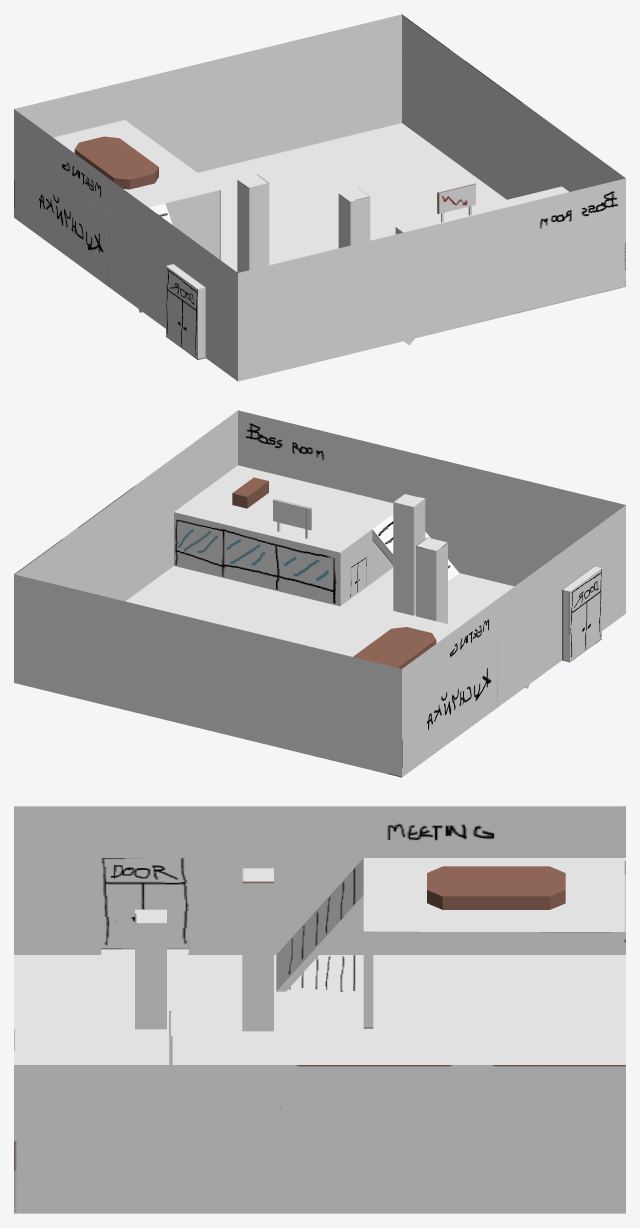
The model's file is arena blockout no cubicles.fbx.
The picture shows the model from 3 angles, top to bottom: view 1: azimuth 30°, elevation 25°; view 2: azimuth 150°, elevation 25°; view 3: azimuth 270°, elevation 25°; orthographic projection. The views are drawn at different scales.
Parts seen in each view (by area): view 1: Cube.001; view 2: Cube.001; view 3: Cube.001.
Part boxes in pixels (x1,y1,x2,y2): Cube.001: (14, 14, 625, 381); Cube.001: (14, 410, 625, 777); Cube.001: (14, 806, 625, 1213).
Bounding box in the file's own units: 2934 × 849 × 2874.
Materials: 2 (2 with a texture image).
